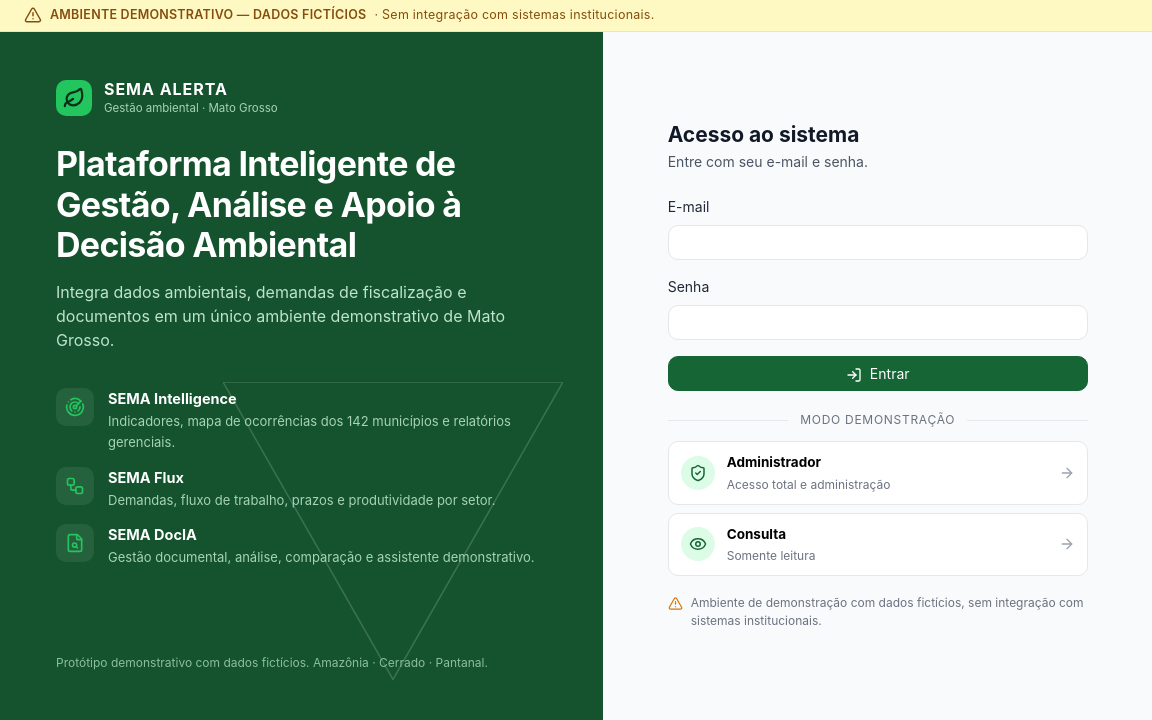
Test case: Login › autentica com sucesso e volta para a rota que o usuário tentou abrir
Type "admin@admin.com" into the field labelled "E-mail". click: [878, 242]
box: left=668, top=225, right=1088, bottom=260
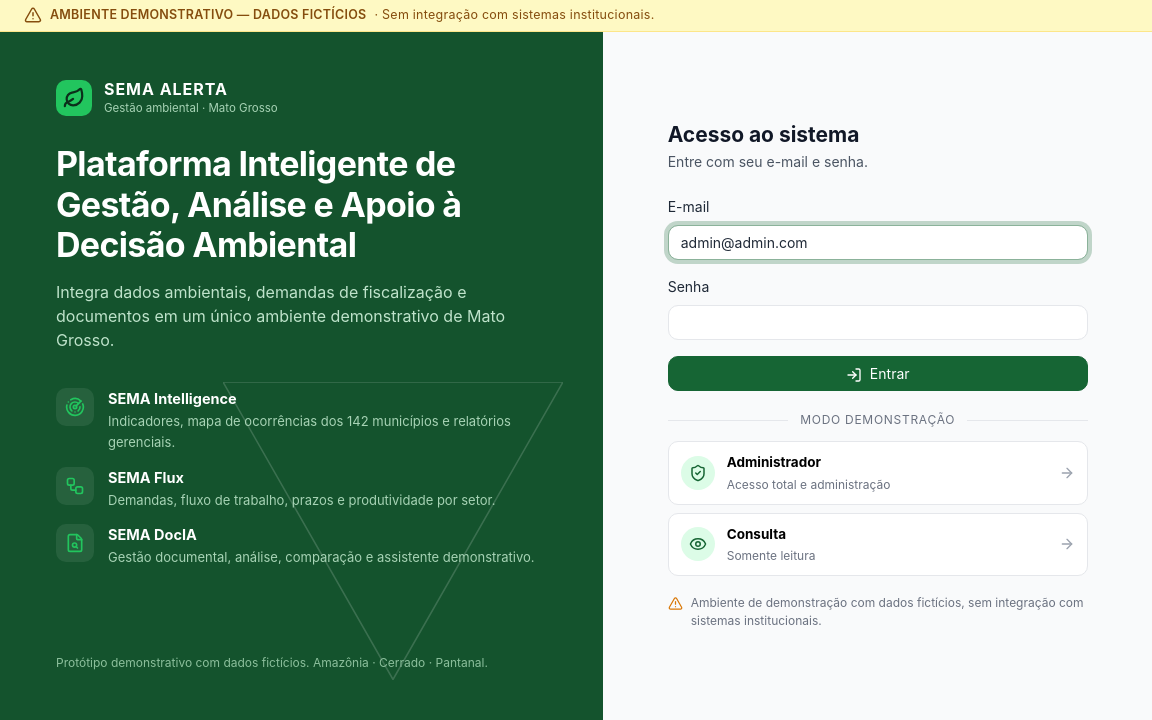
Type "12345678" into the password field labelled "Senha". click: [878, 322]
box: left=668, top=305, right=1088, bottom=340
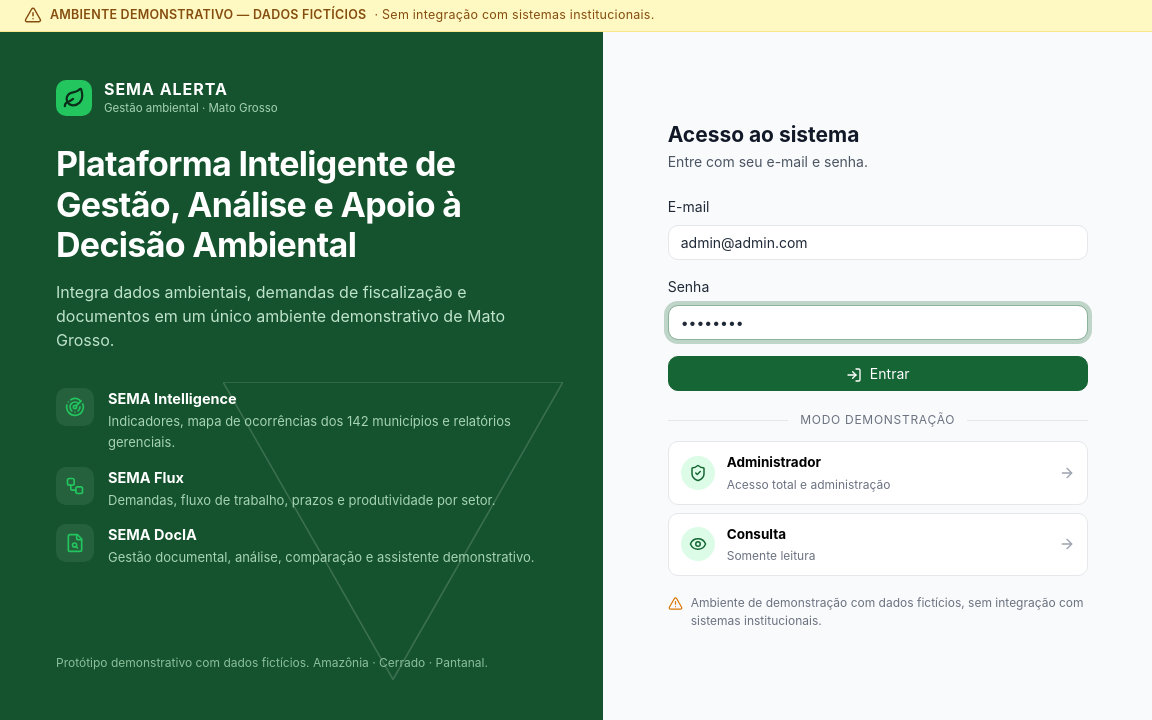
Click the button "Entrar". click: [878, 374]
box: left=668, top=356, right=1088, bottom=391
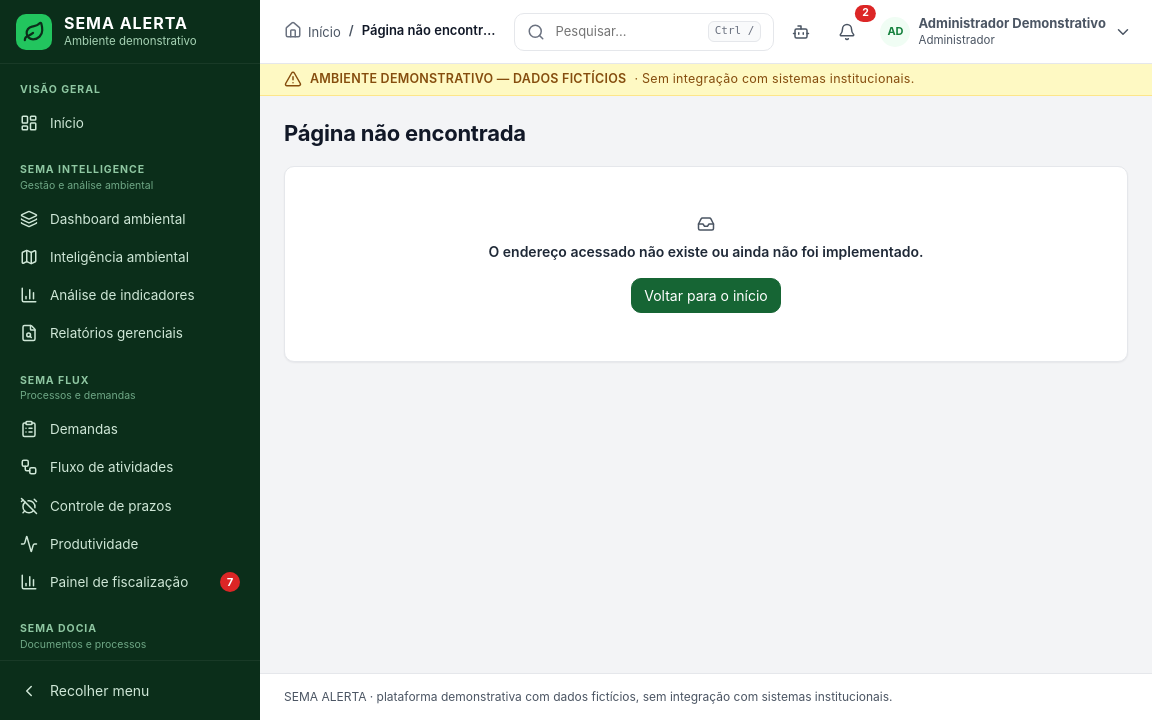
Expected: the heading "Página não encontrada" is shown, left=284, top=120, right=526, bottom=146
Expected: the element named "Menu principal" is shown, left=0, top=0, right=260, bottom=719
Expected: the text "Administrador Demonstrativo" is shown, left=918, top=16, right=1106, bottom=31
